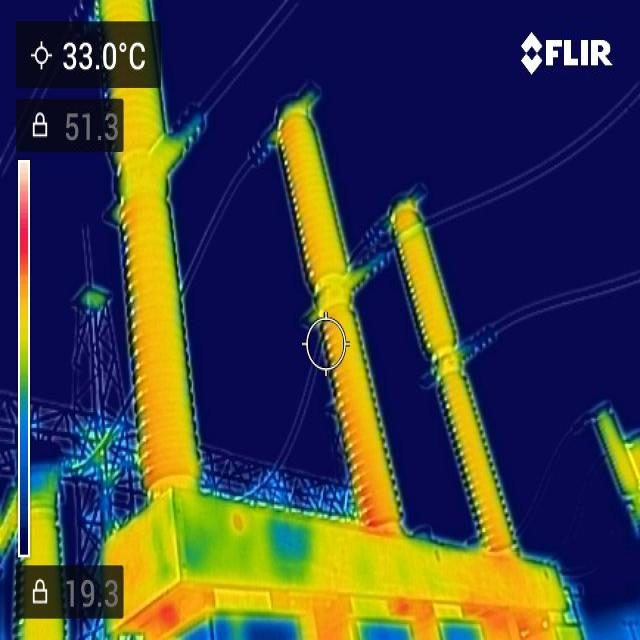Zona_Atenco: (343, 413, 389, 530), (136, 585, 213, 620), (465, 605, 537, 639), (318, 599, 350, 639)
